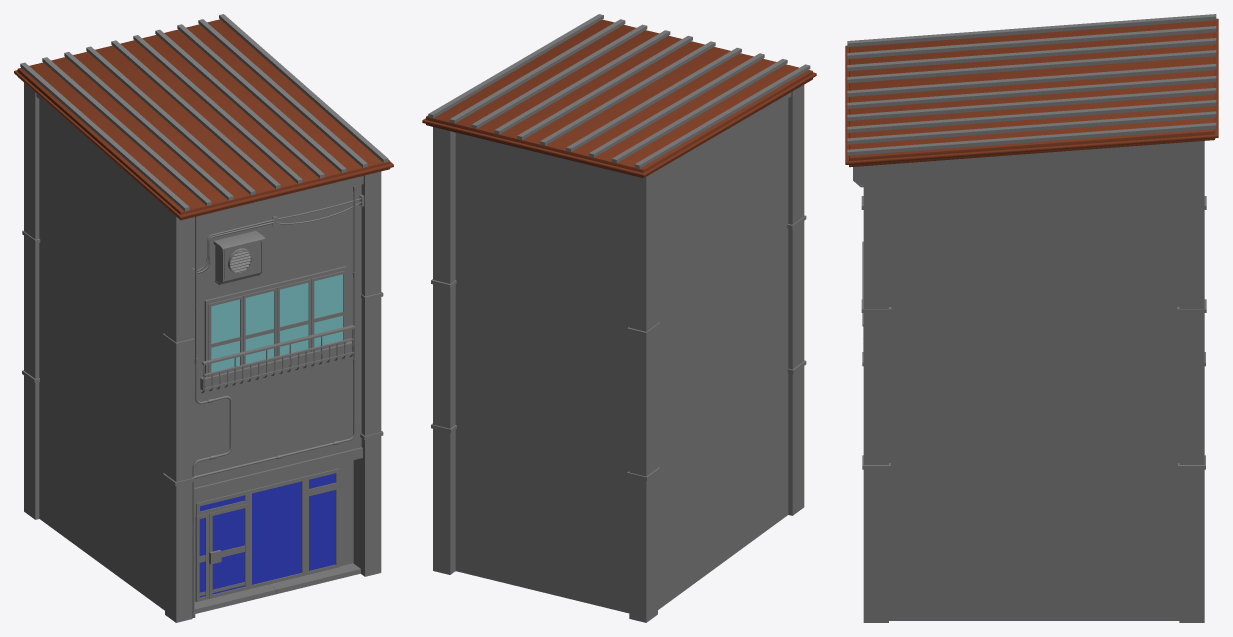
The model's file is SM_store_rowbuilding_01.fbx.
3 views of the same model, side by side, from view 1: azimuth 30°, elevation 25°; view 2: azimuth 150°, elevation 25°; view 3: azimuth 270°, elevation 25° (orthographic). The views are drawn at different scales.
Visible parts, largest first — view 1: Box497; view 2: Box497; view 3: Box497.
Boxes of the visible parts, bbox=[...] form: Box497: bbox=[14, 14, 393, 622]; Box497: bbox=[422, 14, 816, 622]; Box497: bbox=[845, 14, 1218, 622].
Bounding box in the file's own units: 217 × 430 × 292.
